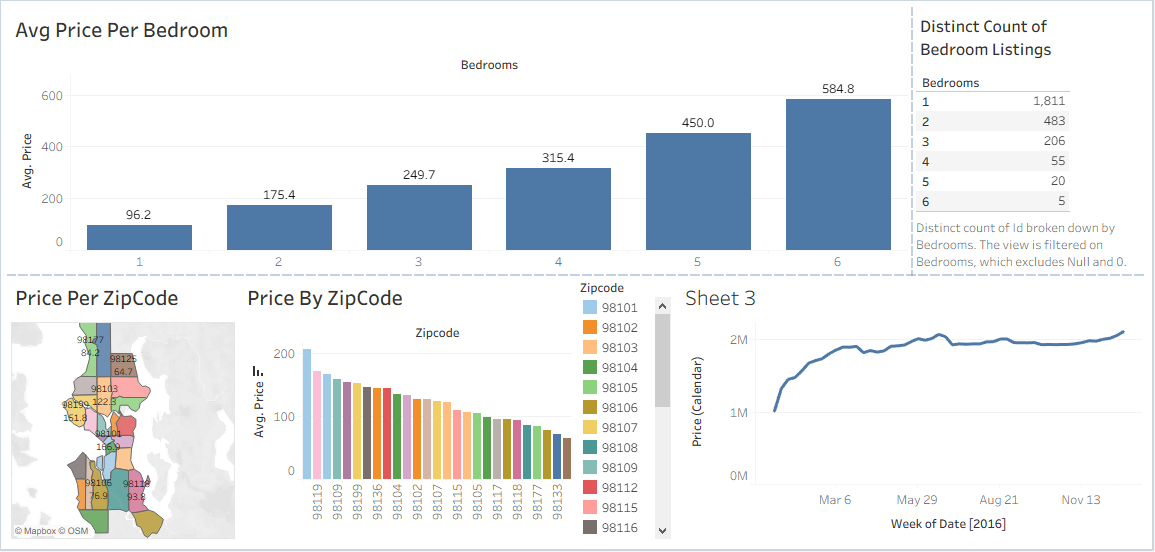

Layout of this report page (visuals, bound fields, positions):
{"tool":"tableau","page":{"name":"Dashboard 1","canvas":[1000,1000],"units":"permille","ordinal":0},"visuals":[{"type":"worksheet","title":"Sheet 4","mark":"Automatic","rows":["price"],"cols":["bedrooms"],"box":[6.9,14.5,783.6,485.5]},{"type":"worksheet","title":"Sheet 5","mark":"Automatic","rows":["bedrooms"],"box":[790.5,14.5,202.6,485.5]},{"type":"worksheet","title":"Sheet 2","mark":"Multipolygon","box":[6.9,500,200.9,485.5]},{"type":"worksheet","title":"Sheet 1","mark":"Automatic","rows":["price"],"cols":["zipcode"],"box":[207.8,500,291.8,485.5]},{"type":"legend","title":"Sheet 1","param":"[federated.0p36ll70lyvivf1amvpfu18ts7em].[none:zipcode:ok]","box":[499.6,500,87.4,485.5]},{"type":"worksheet","title":"Sheet 3","mark":"Automatic","rows":["price (calendar)"],"cols":["date"],"box":[587,500,406.1,485.5]}]}

Visuals, with their boxes on the dashboard's canvas, which has no fixed pixel size, in thousandths of its width and height (x1, y1, x2, y2). These are canvas units, not pixel positions in the 1155x552 screenshot, which may show the page scaled, cropped or inside an application window:
"Sheet 4" worksheet: (x1=7, y1=14, x2=790, y2=500)
"Sheet 5" worksheet: (x1=790, y1=14, x2=993, y2=500)
"Sheet 2" worksheet (Multipolygon marks): (x1=7, y1=500, x2=208, y2=986)
"Sheet 1" worksheet: (x1=208, y1=500, x2=500, y2=986)
"Sheet 1" legend: (x1=500, y1=500, x2=587, y2=986)
"Sheet 3" worksheet: (x1=587, y1=500, x2=993, y2=986)
